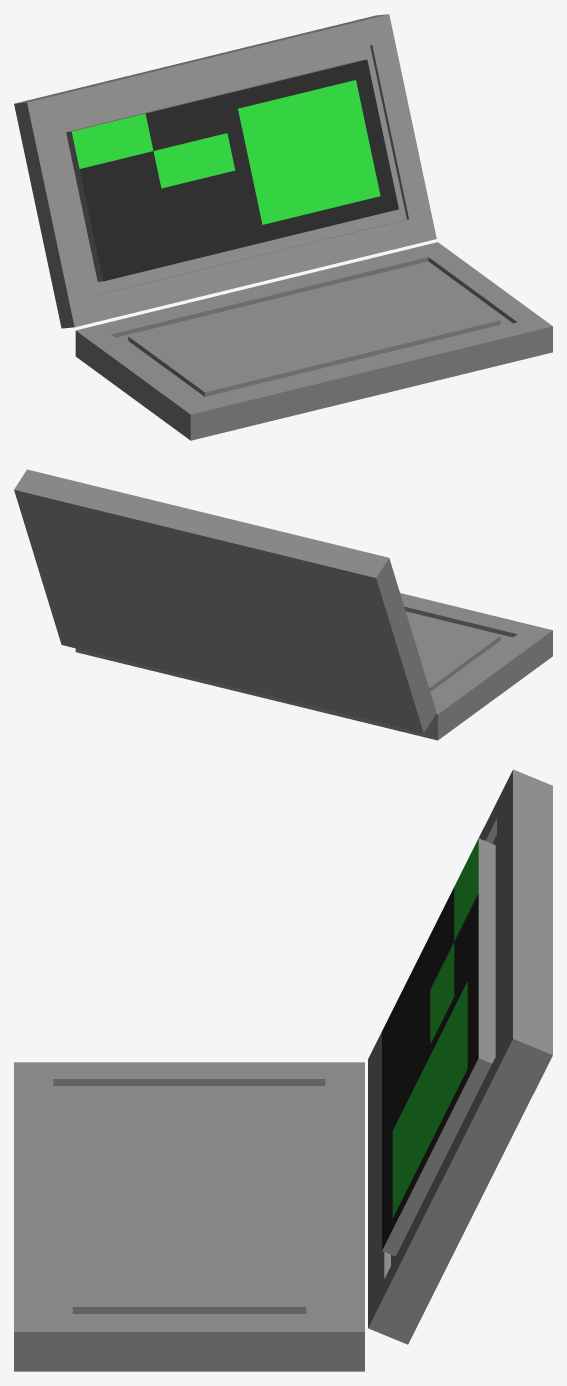
Rendered from mac.fbx.
The picture shows the model from 3 angles, top to bottom: view 1: azimuth 30°, elevation 25°; view 2: azimuth 150°, elevation 25°; view 3: azimuth 270°, elevation 25°; orthographic projection. The views are drawn at different scales.
Visible parts, largest first — view 1: Cube_1, Cube; view 2: Cube_1, Cube; view 3: Cube, Cube_1.
Boxes of the visible parts, x1,y1,x2,y2 form: Cube_1: [14, 14, 436, 328]; Cube: [75, 242, 552, 440]; Cube_1: [14, 469, 436, 733]; Cube: [75, 593, 552, 740]; Cube: [14, 1062, 364, 1371]; Cube_1: [368, 769, 552, 1344].
Size of the model in its own units: 200 by 115 by 169.
